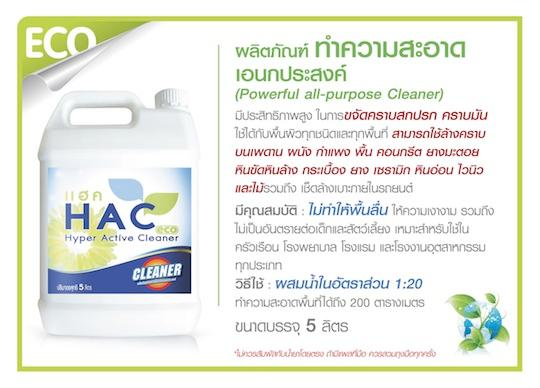Cleaning_solution: (35, 82, 205, 345)
